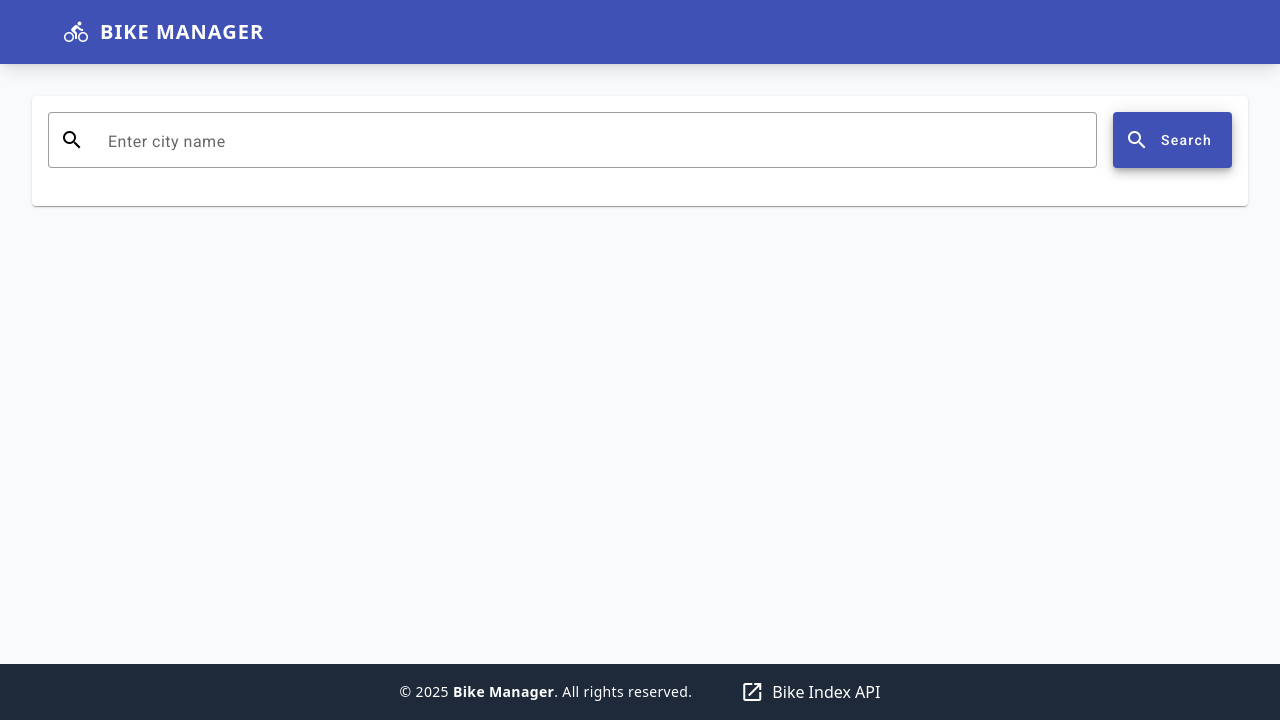
it: Bike Search › should display error when searching with empty city
Click the button "Search".
click(1173, 140)  # box [1113,112,1232,168]
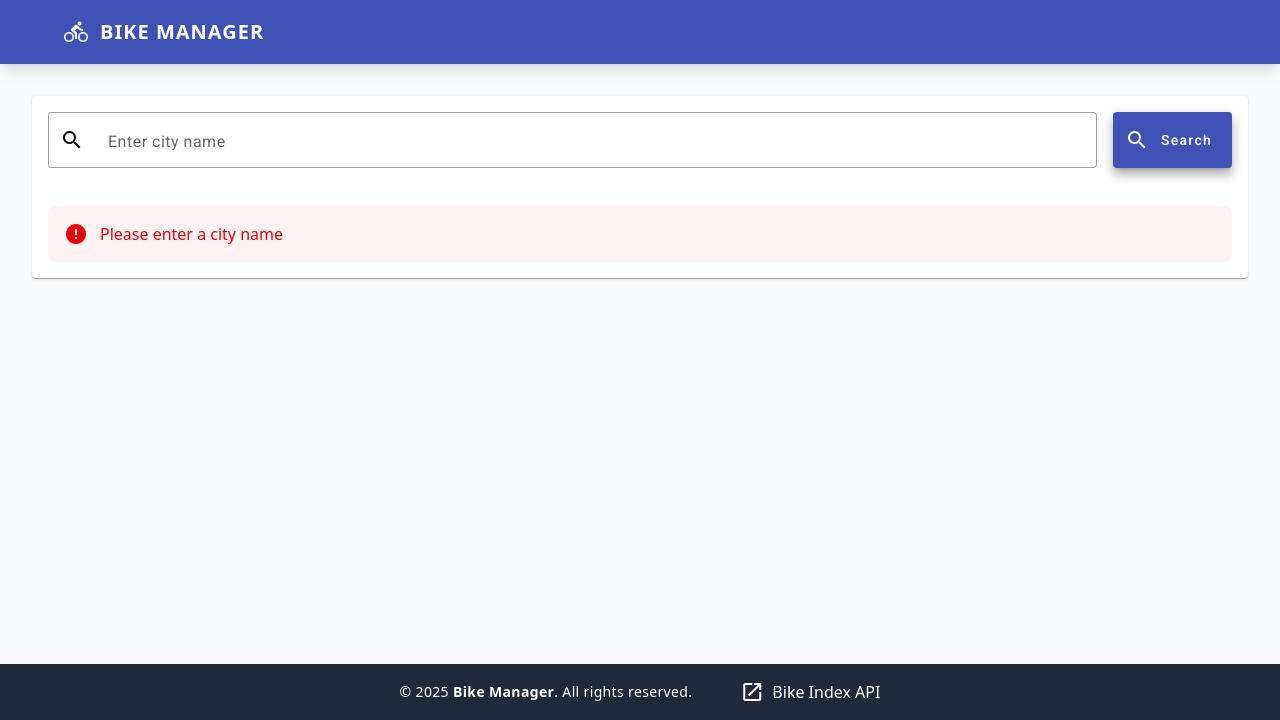
Expected: the element showing "Please enter a city name" is shown, [48,206,1232,262]
